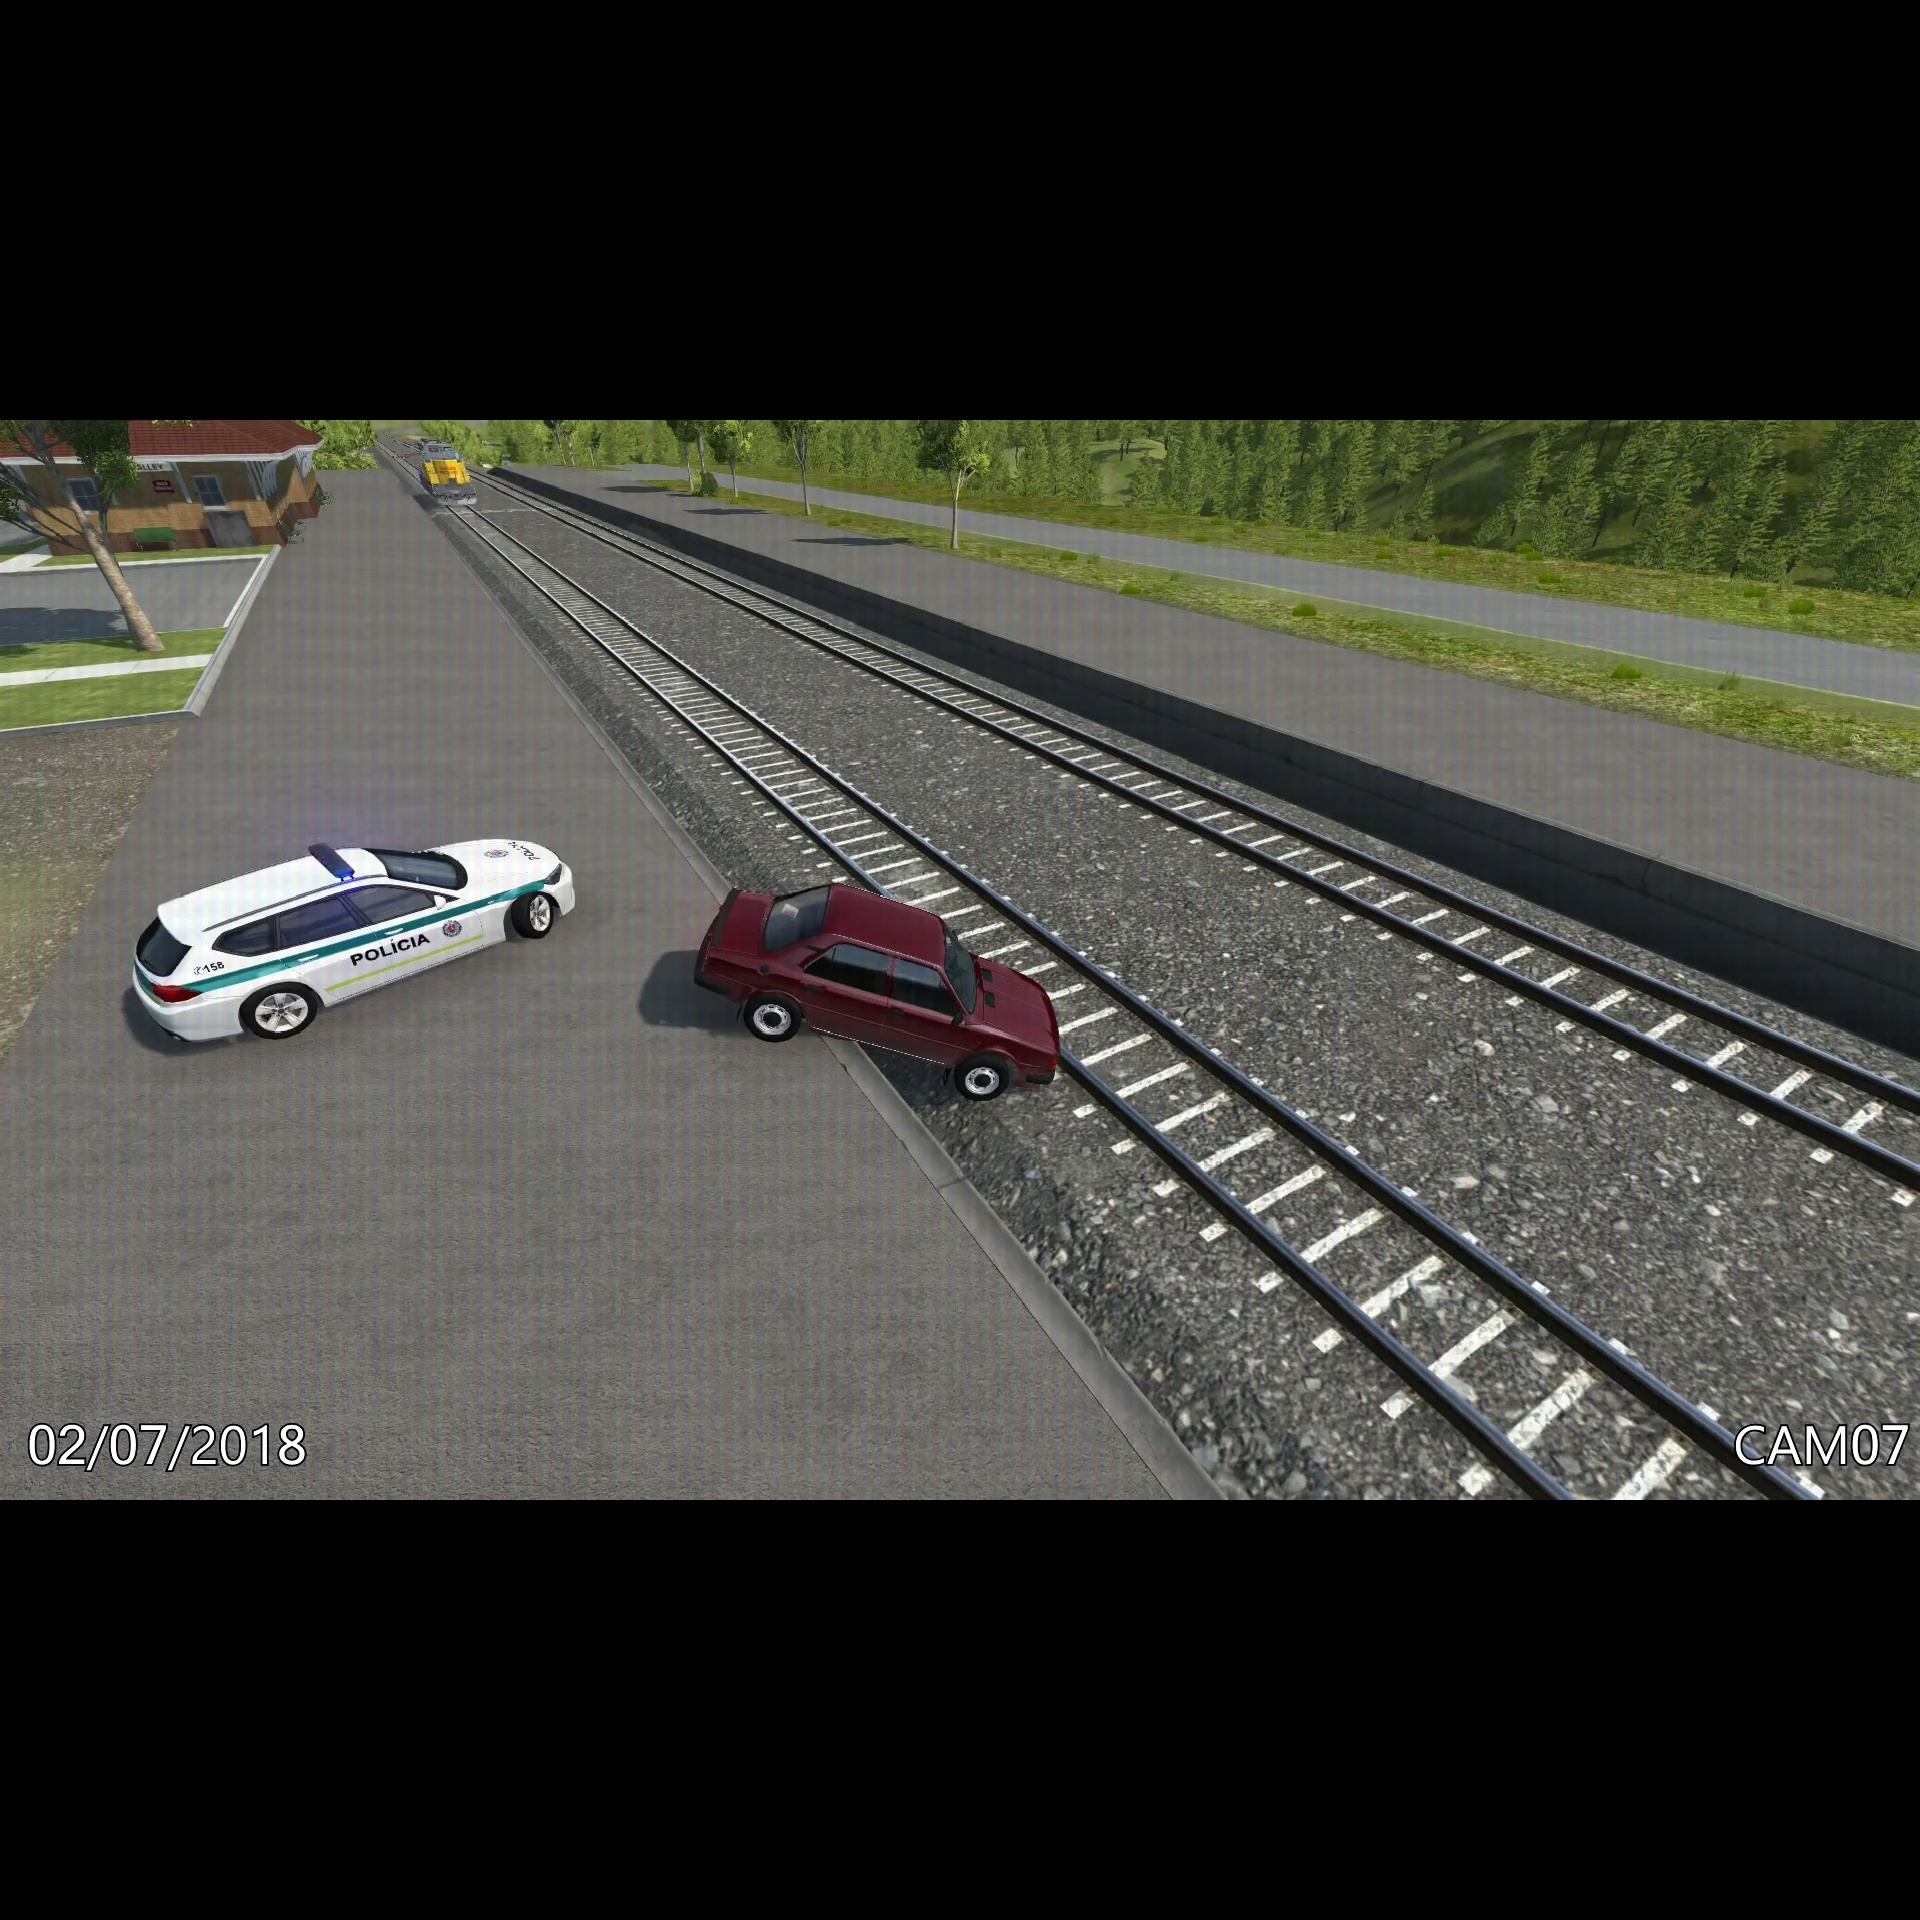vehicle: (127, 814, 593, 1057), (679, 862, 1067, 1109)
